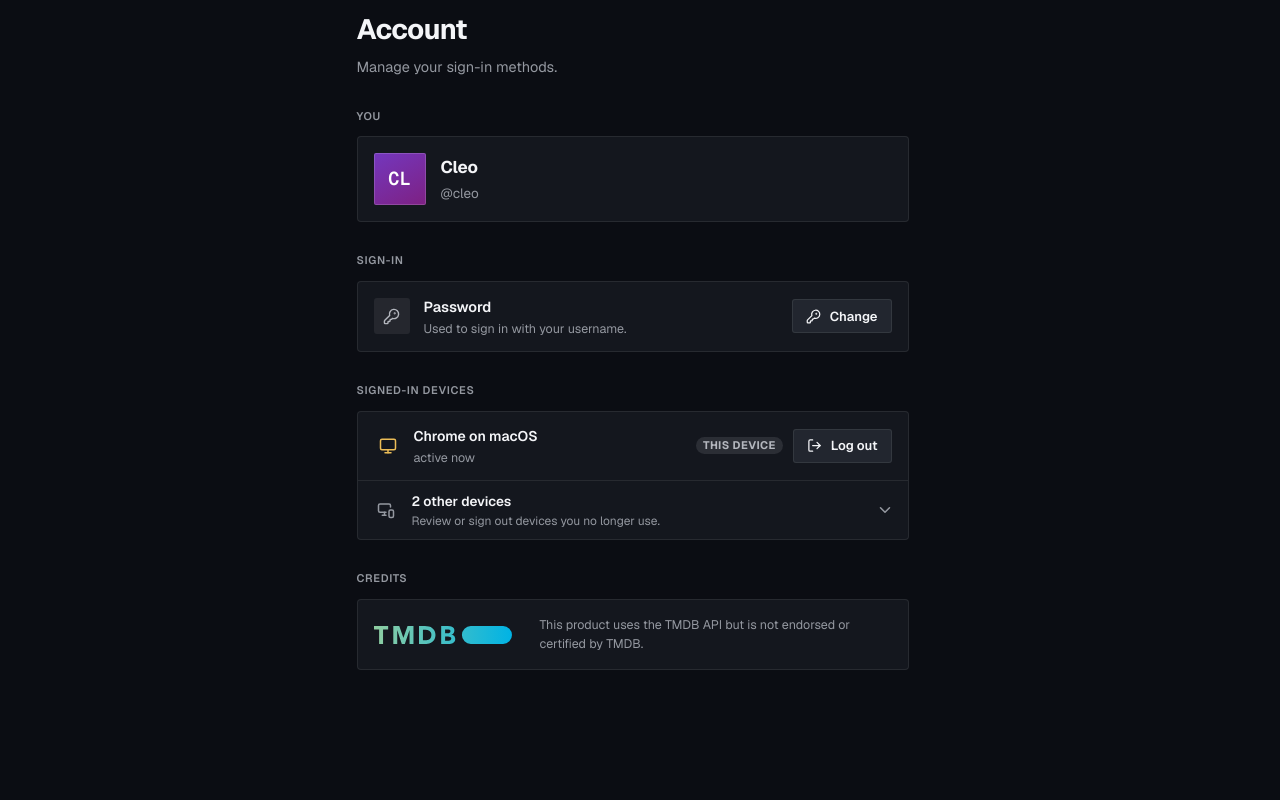
Test: opening a ceremony from its row › opens the log-out-everywhere confirm, carrying the actor's device count
The width and height of the screenshot is (1280, 800).
Click the text "2 other devices": (461, 501) [412,492,511,510]
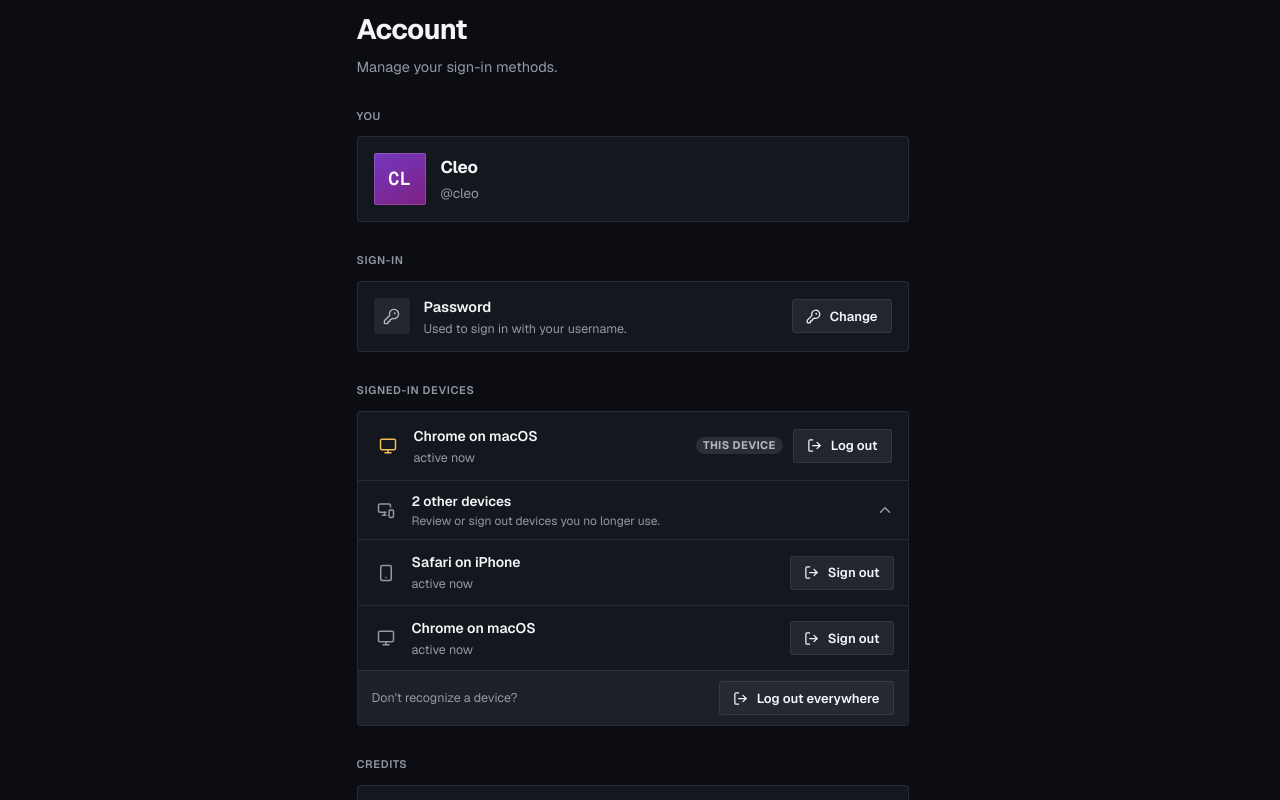
Click the button "Log out everywhere": (806, 698) [719,681,894,715]
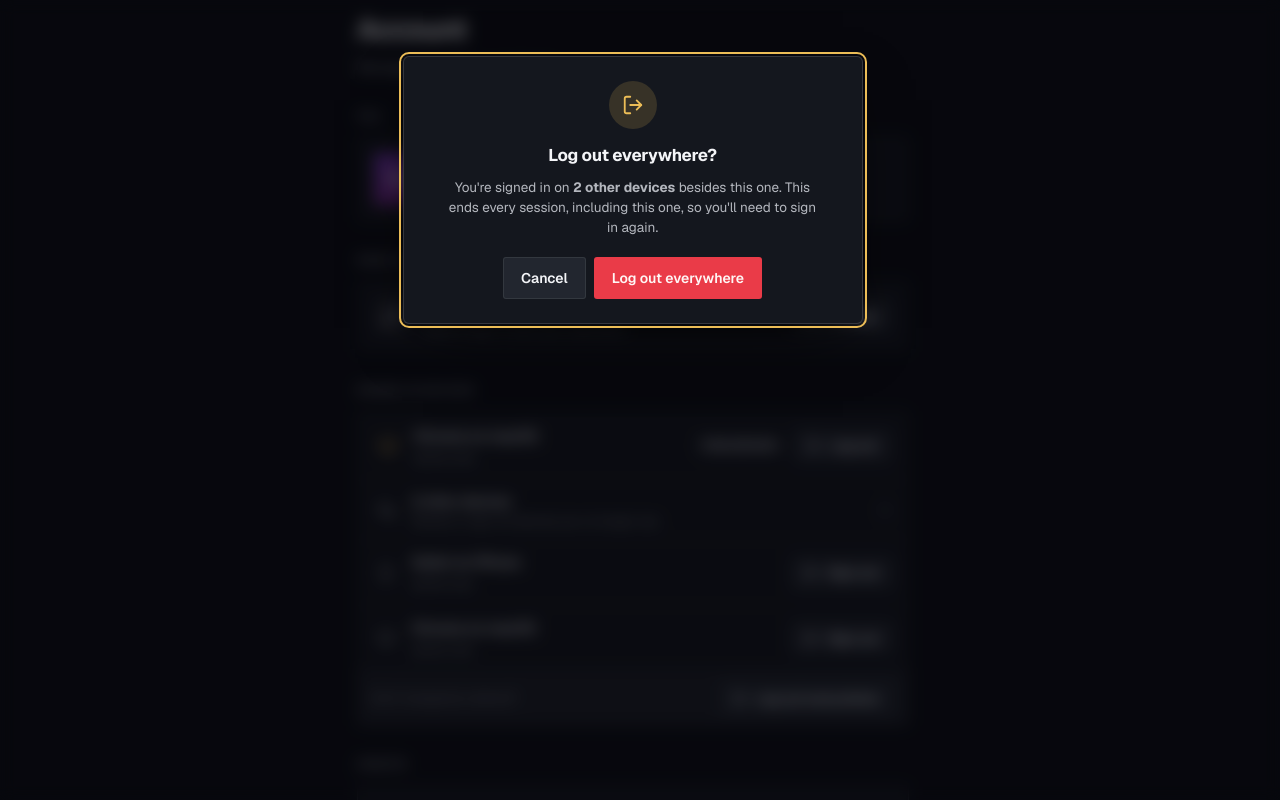
Expected: the heading "Log out everywhere?" is shown, [548,144,717,166]
Expected: the dialog shows "2 other devices", [573,178,675,196]
